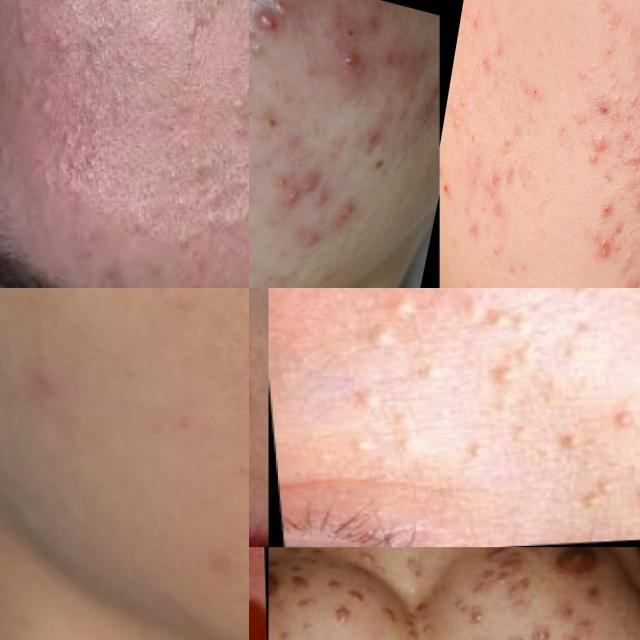acne_scars: (619, 144, 640, 181)
comedone: (0, 0, 131, 241), (180, 21, 249, 266), (444, 84, 472, 144), (572, 52, 600, 90), (565, 95, 582, 139), (542, 180, 560, 212), (637, 91, 640, 114)
keloid: (325, 586, 372, 631), (388, 599, 438, 640), (479, 547, 530, 576), (502, 624, 552, 640), (465, 604, 493, 629)
milium: (446, 288, 560, 336), (473, 337, 548, 393), (558, 472, 640, 522), (362, 299, 418, 356), (348, 382, 390, 421), (600, 402, 640, 442), (548, 427, 592, 454)
papule: (13, 349, 98, 433), (350, 117, 393, 168), (326, 195, 352, 232), (293, 230, 321, 260), (281, 188, 302, 213), (301, 172, 315, 198)
pustule: (331, 44, 357, 80), (583, 146, 609, 177), (255, 16, 278, 36)
sebo-crystan-conglo: (592, 231, 616, 273), (261, 0, 292, 12)
